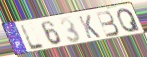3: (60, 17, 81, 43)
6: (41, 20, 62, 46)
B: (95, 10, 121, 38)
K: (77, 14, 102, 40)
L: (19, 24, 46, 51)
Q: (116, 8, 142, 34)
